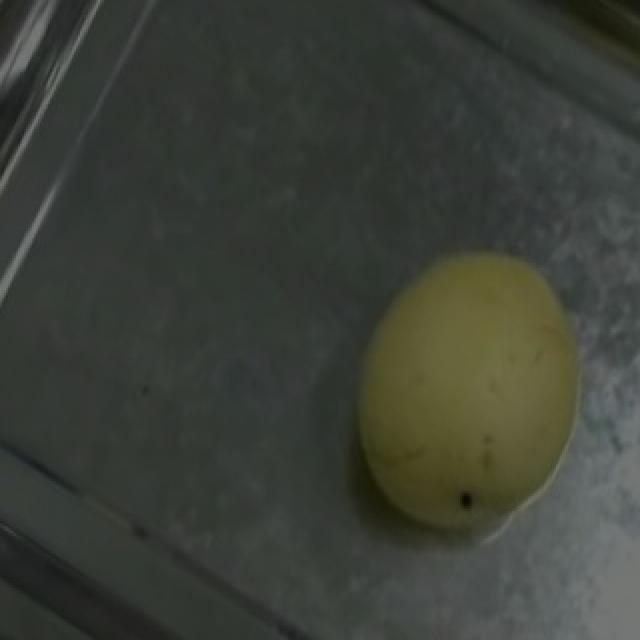Fruit: (314, 203, 624, 573)
